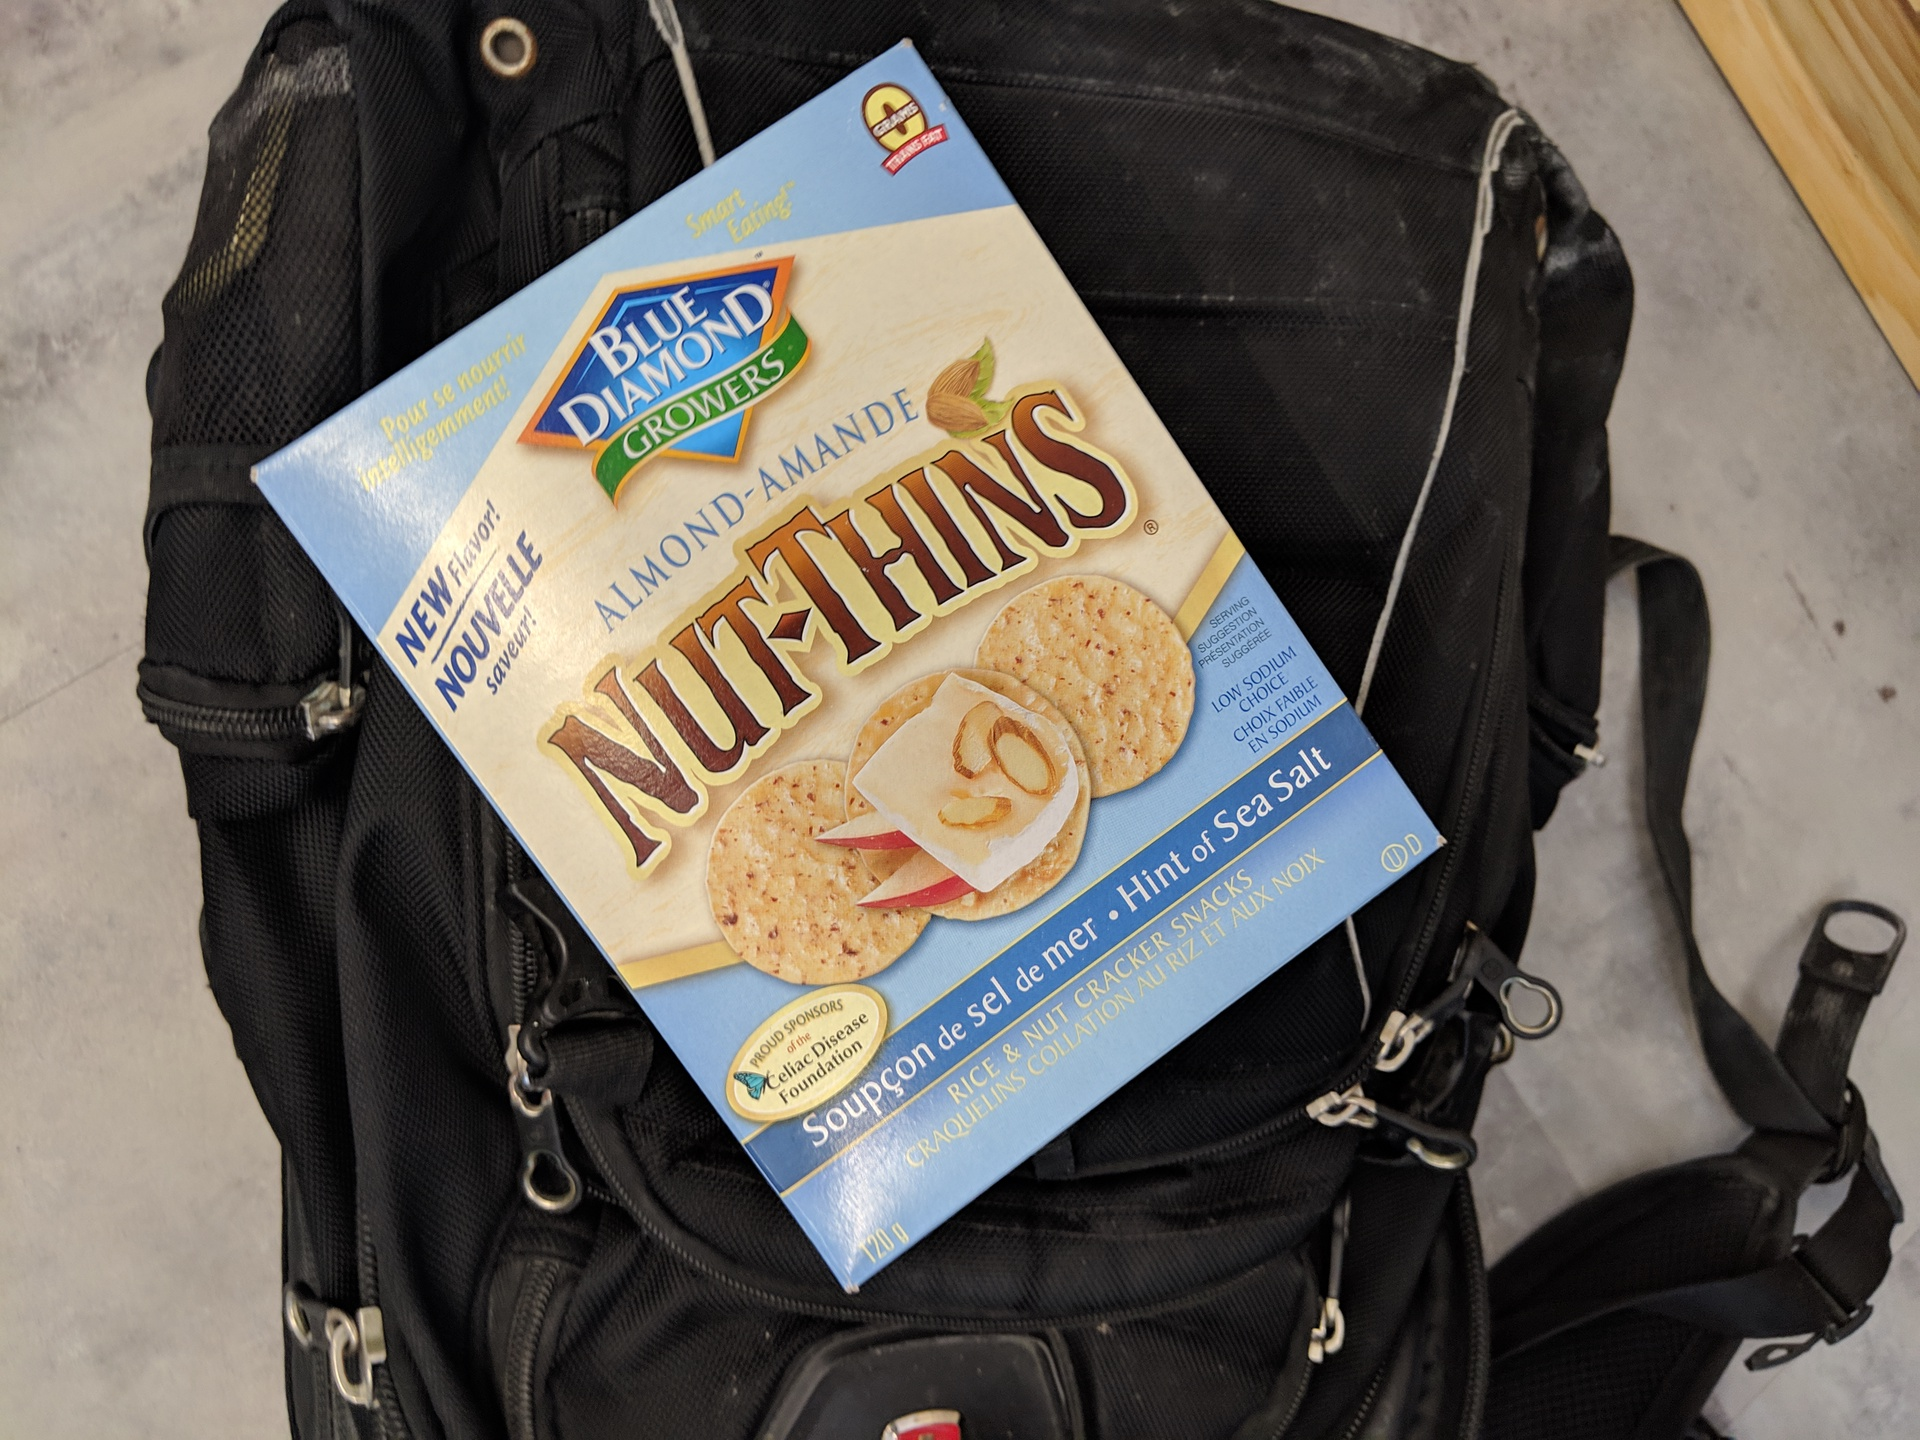blue_diamond_nut_thins_almond_seasalt: (541, 380, 1138, 892)
